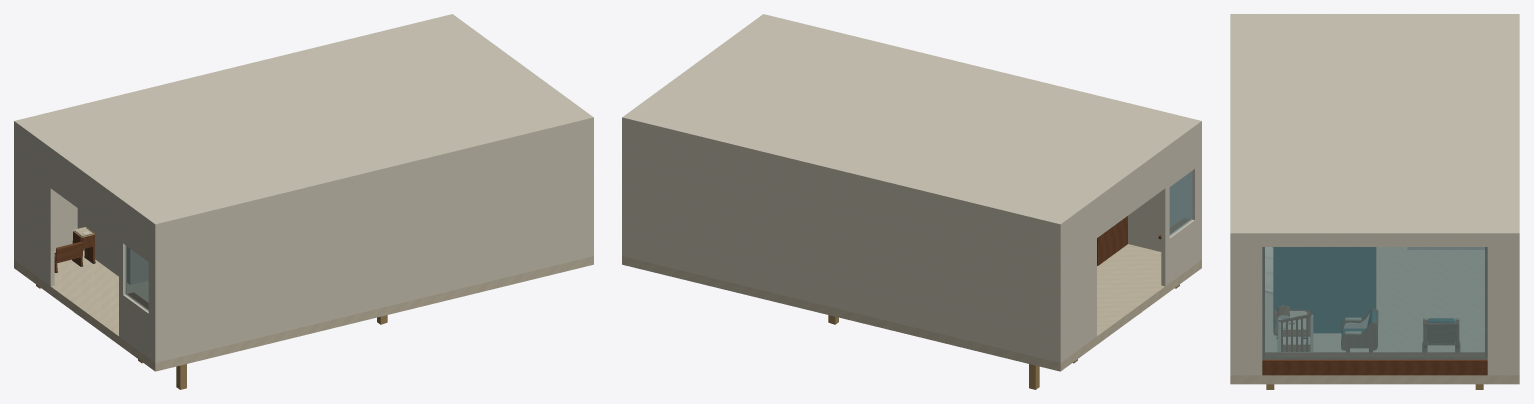
File: QuietGroveBank_451_r001.glb
The picture shows the model from 3 angles, left to right: view 1: azimuth 30°, elevation 25°; view 2: azimuth 150°, elevation 25°; view 3: azimuth 270°, elevation 25°; orthographic projection. The views are drawn at different scales.
Visible parts, largest first — view 1: QG451_Ceiling, QG451_NorthSide, QG451_RoomFloor, QG451_EntryShoulderSouth, QG451_EntryHeader, QG451_StreetWindowLower, QG451_WashEntrySide, QG451_SouthSide, QG451_StreetWindowUpper, QG451_ScreenedStreetGlass, QGB451_CourtSouthPier; view 2: QG451_Ceiling, QG451_SouthSide, QG451_RoomFloor, QG451_EntryShoulderSouth, QG451_NorthSide, QG451_EntryHeader, QG451_StreetWindowLower, QG451_StreetWindowUpper, QG451_ScreenedStreetGlass, QG451_EntryPrivacyDogleg; view 3: QG451_Ceiling, QGB451_PrivateCourtGlass, QG451_RoomFloor, QG451_Cocoon01_RearLiner, QGB451_CourtNorthPier, QGB451_CourtSouthPier, QGB451_CourtSill, QGB451_CourtHeader, QGB451_DeepReveal_0.34, QG451_NorthSide, QG451_SouthSide, QG451_QG451_DayReadingChair__DAY_CHAIR_L_swept_walnut_cheek (+4 smaller).
Part boxes in pixels (x1,y1,x2,y2): QG451_Ceiling: [14, 14, 593, 229]; QG451_NorthSide: [153, 123, 593, 362]; QG451_RoomFloor: [14, 250, 593, 371]; QG451_EntryShoulderSouth: [16, 128, 54, 286]; QG451_EntryHeader: [49, 153, 119, 238]; QG451_StreetWindowLower: [119, 292, 152, 360]; QG451_WashEntrySide: [77, 208, 133, 284]; QG451_SouthSide: [14, 127, 77, 260]; QG451_StreetWindowUpper: [119, 203, 152, 264]; QG451_ScreenedStreetGlass: [125, 245, 148, 310]; QGB451_CourtSouthPier: [585, 123, 593, 257]; QG451_Ceiling: [622, 14, 1201, 229]; QG451_SouthSide: [622, 123, 1062, 362]; QG451_RoomFloor: [622, 244, 1201, 371]; QG451_EntryShoulderSouth: [1063, 203, 1096, 360]; QG451_NorthSide: [1128, 127, 1201, 260]; QG451_EntryHeader: [1096, 154, 1165, 238]; QG451_StreetWindowLower: [1161, 217, 1199, 286]; QG451_StreetWindowUpper: [1163, 128, 1199, 190]; QG451_ScreenedStreetGlass: [1169, 171, 1192, 235]; QG451_EntryPrivacyDogleg: [1097, 216, 1127, 265]; QG451_Ceiling: [1230, 14, 1519, 238]; QGB451_PrivateCourtGlass: [1262, 247, 1487, 359]; QG451_RoomFloor: [1230, 247, 1519, 384]; QG451_Cocoon01_RearLiner: [1276, 247, 1373, 332]; QGB451_CourtNorthPier: [1487, 239, 1519, 375]; QGB451_CourtSouthPier: [1230, 239, 1262, 375]; QGB451_CourtSill: [1262, 358, 1487, 375]; QGB451_CourtHeader: [1262, 239, 1487, 246]; QGB451_DeepReveal_0.34: [1265, 352, 1484, 357]; QG451_NorthSide: [1230, 239, 1234, 375]; QG451_SouthSide: [1515, 239, 1519, 375]; QG451_QG451_DayReadingChair__DAY_CHAIR_L_swept_walnut_cheek: [1341, 322, 1377, 350].
Size of the model in its own units: 12.9 by 5.31 by 7.2.
Materials: 64 (49 with a texture image).
